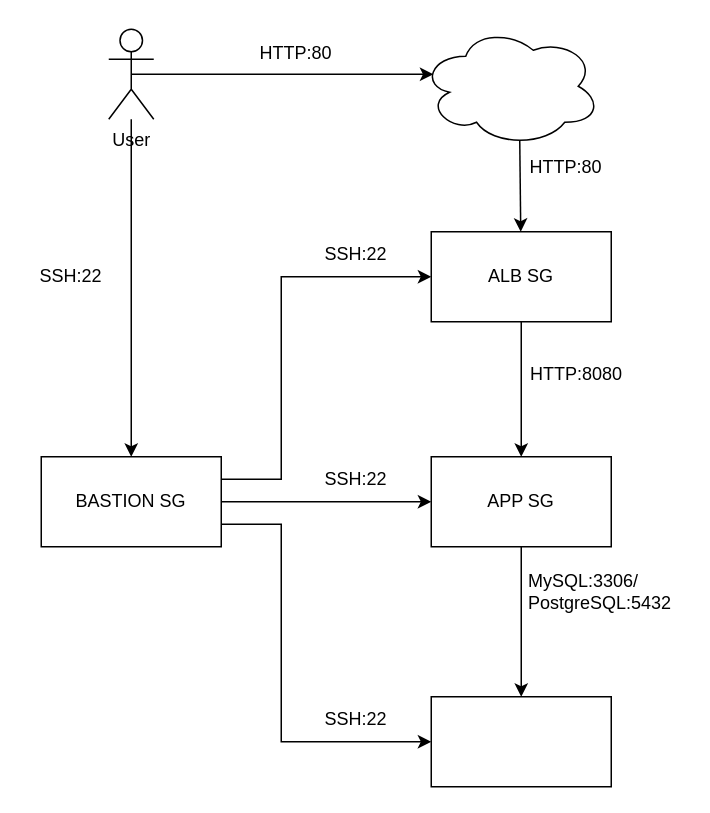
This 710x813 diagram has some shape labels left out. The centre of each missing label's shape, as x and y in pixels:
"DATA SG" goes at [520,741].
"Internet" goes at [510,85].
